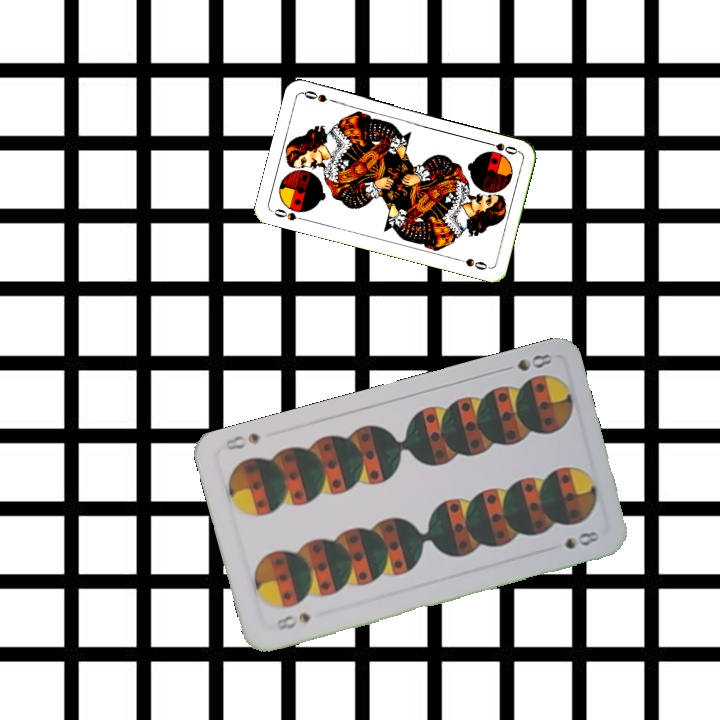S8: (496, 349, 555, 375), (272, 608, 313, 633)
SO: (481, 138, 521, 157), (268, 205, 308, 224)
